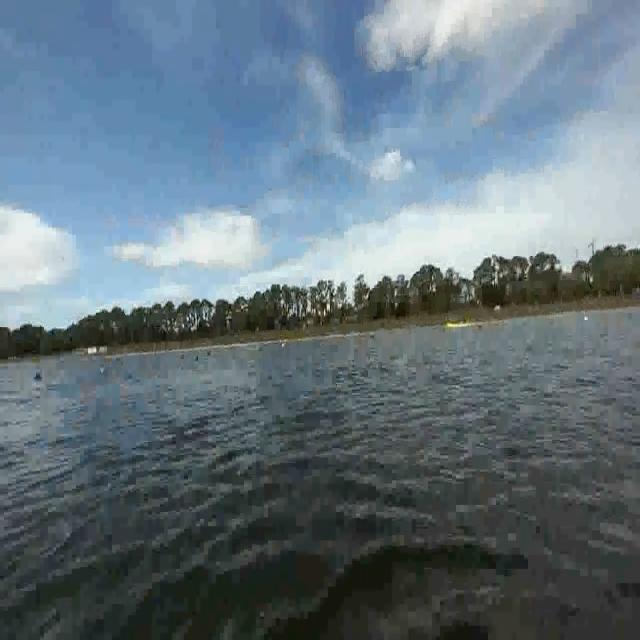black-buoy: (31, 367, 41, 383)
